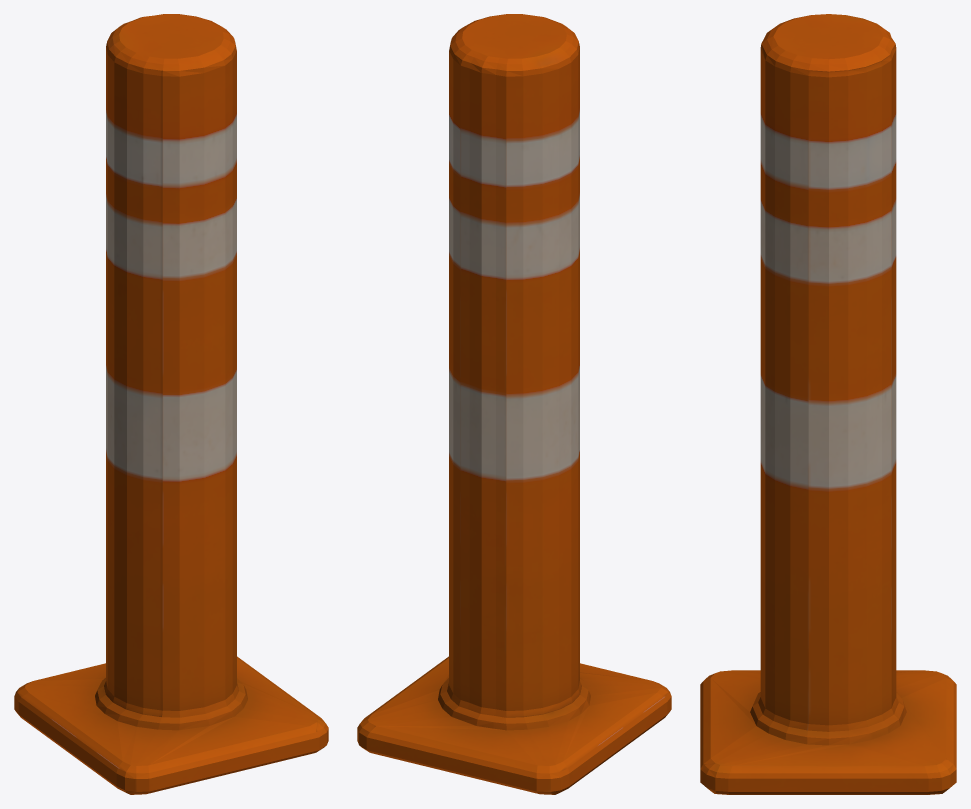
The picture shows the model from 3 angles, left to right: view 1: azimuth 30°, elevation 25°; view 2: azimuth 150°, elevation 25°; view 3: azimuth 270°, elevation 25°; orthographic projection. The views are drawn at different scales.
Visible parts, largest first — view 1: texture_pbr_v128; view 2: texture_pbr_v128; view 3: texture_pbr_v128.
Part boxes in pixels (x1,y1,x2,y2): texture_pbr_v128: [14, 14, 328, 794]; texture_pbr_v128: [357, 14, 671, 794]; texture_pbr_v128: [700, 14, 956, 794].
Size of the model in its own units: 0.3479 by 1.11 by 0.3638.
Materials: 1 (1 with a texture image).
